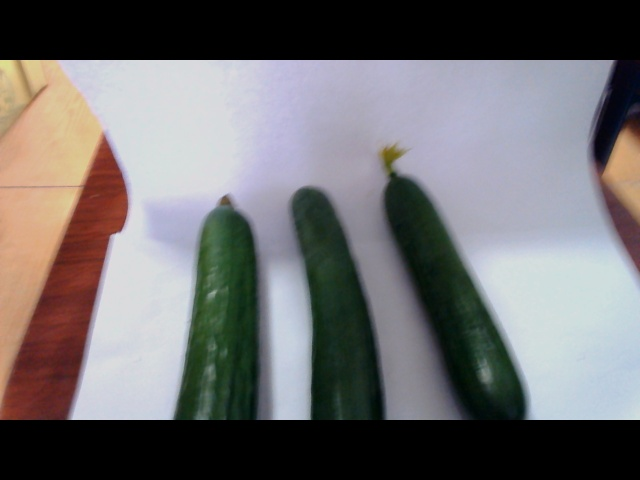cucumber: (378, 155, 538, 420), (284, 181, 387, 419), (164, 192, 261, 420)
